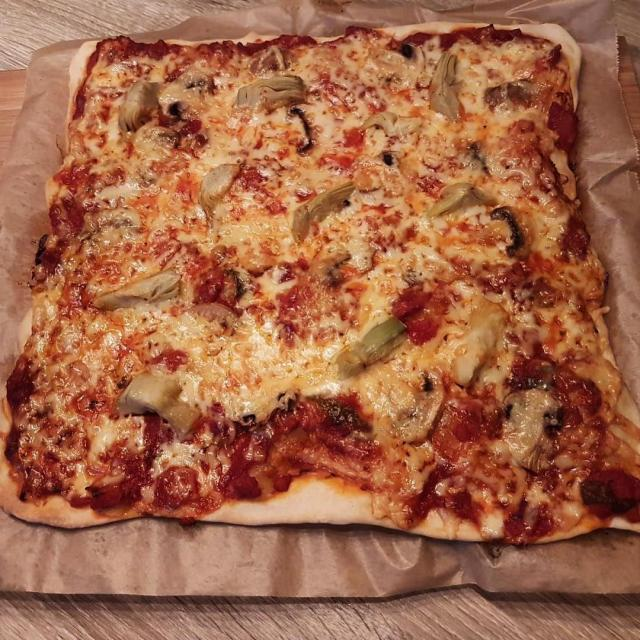mushrooms: (502, 389, 560, 470), (260, 397, 369, 435), (158, 93, 208, 157), (490, 206, 530, 257), (218, 267, 256, 315), (389, 33, 431, 69), (289, 105, 315, 155), (467, 141, 489, 173), (382, 150, 395, 166)
pizza: (0, 24, 640, 543)
